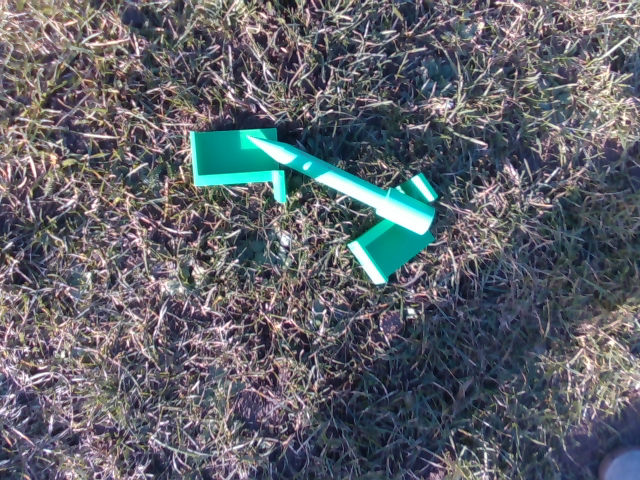Probe: (245, 133, 442, 240)
